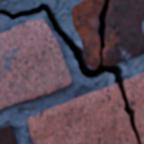brick: (0, 19, 71, 108), (0, 124, 17, 143)
broken_brick: (28, 83, 137, 143), (103, 0, 143, 65), (71, 0, 104, 68), (124, 73, 143, 143)
crack: (0, 0, 142, 143)
